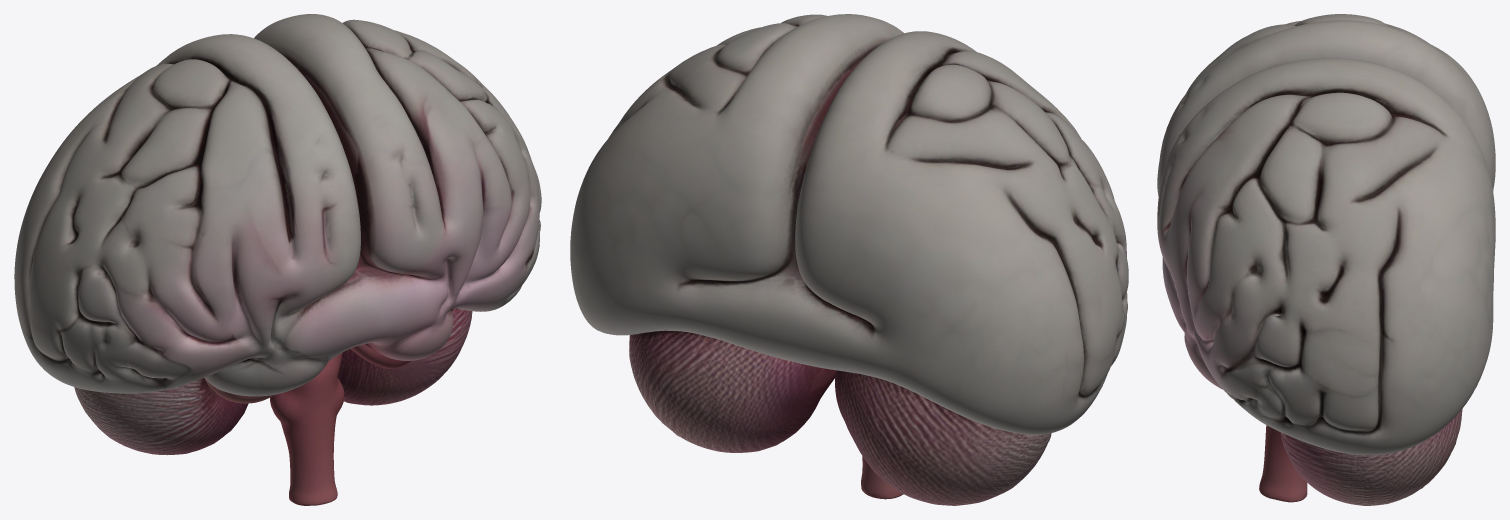
The model's file is cat_brain.glb.
3 renders of one model, left to right at view 1: azimuth 30°, elevation 25°; view 2: azimuth 150°, elevation 25°; view 3: azimuth 270°, elevation 25°, orthographic. The views are drawn at different scales.
Visible parts, largest first — view 1: model; view 2: model; view 3: model.
Part boxes in pixels (<box>): model: <box>14,14,541,505</box>; model: <box>570,14,1128,505</box>; model: <box>1157,14,1495,505</box>.
Bounding box in the file's own units: 1.9 × 1.67 × 1.14.
1 material, 1 textured.
